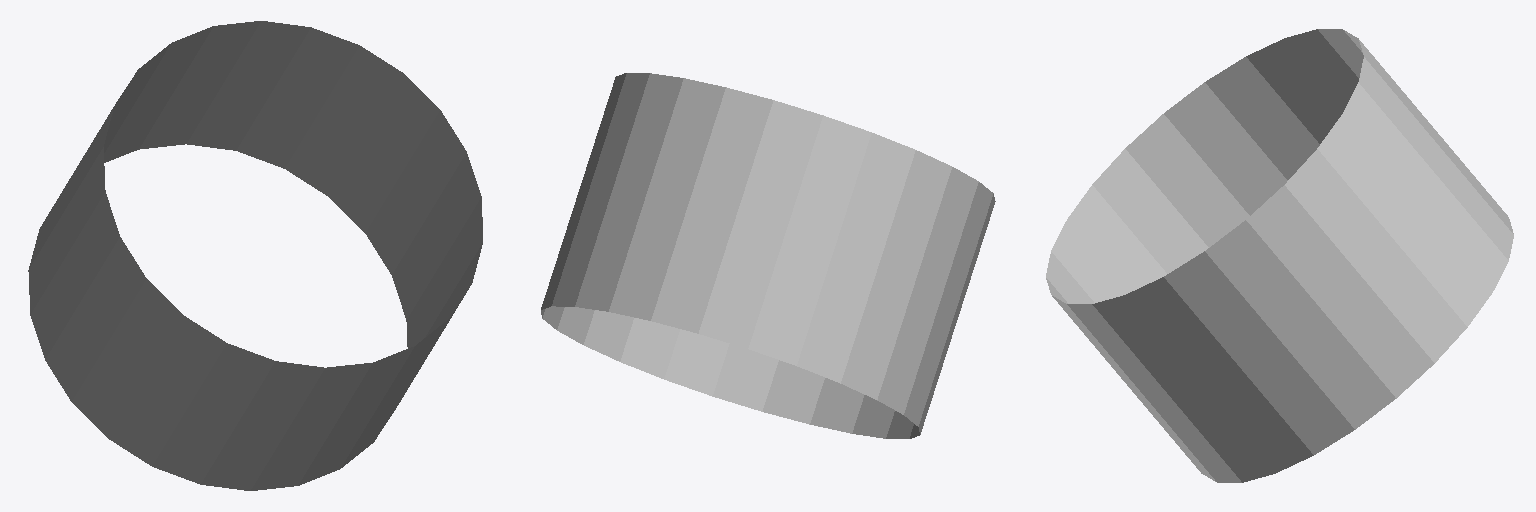
Rendered from original-13.obj.
The picture shows the model from 3 angles: view 1: azimuth 30°, elevation 25°; view 2: azimuth 150°, elevation 25°; view 3: azimuth 270°, elevation 25°; orthographic projection.
Parts seen in each view (by area): view 1: #ID83; view 2: #ID83; view 3: #ID83.
Boxes of the visible parts, box(x1,y1,x2,y2) form: #ID83: box(28, 21, 482, 490); #ID83: box(541, 73, 995, 438); #ID83: box(1046, 29, 1513, 482).
Size of the model in its own units: 0.006 by 0.0066 by 0.007.